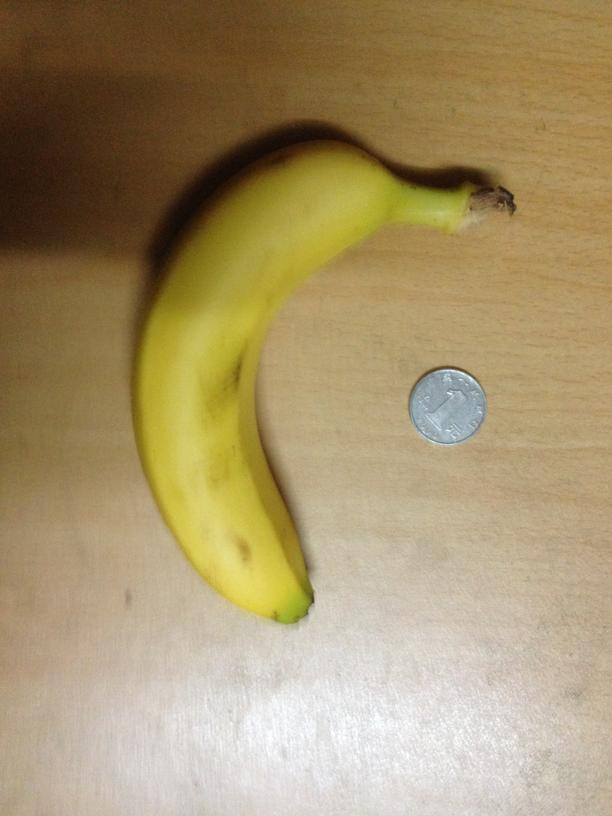banana: (135, 139, 421, 626)
coin: (407, 363, 486, 443)
